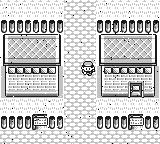leer: (32, 115, 48, 129), (128, 115, 144, 129)
main: (81, 62, 95, 75)
no-caminable: (100, 34, 157, 97), (4, 34, 60, 97), (1, 19, 63, 33), (98, 19, 159, 33), (97, 115, 127, 129), (1, 116, 31, 128), (49, 116, 63, 129), (145, 116, 159, 129)
puerta: (130, 84, 142, 97)
